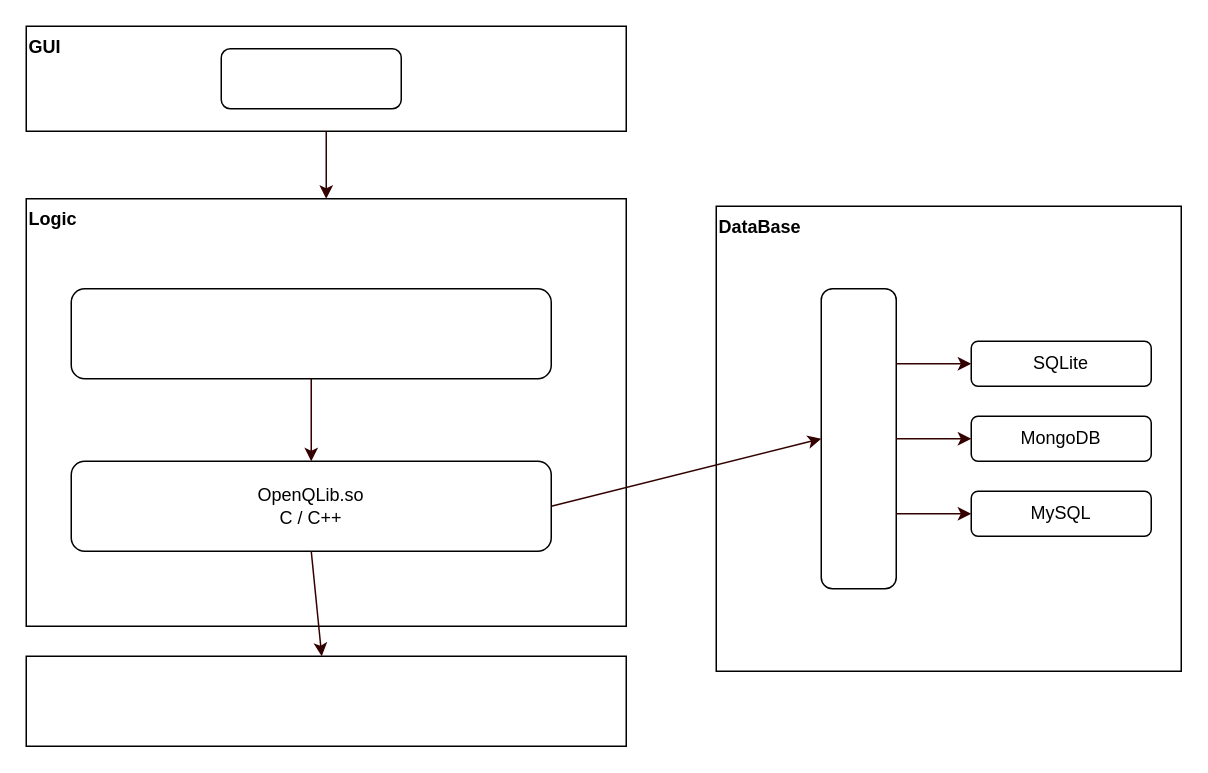
The diagram is 1208 pixels wide and 773 high, and some of its shapes have lost their labels. Here are the shapes that lost their labels. From the top down, the centre of each, then its label:
At pixel 310 78: "QT".
At pixel 310 333: "OQ.py Python".
At pixel 858 438: "DBAPI".
At pixel 325 700: "Network".
